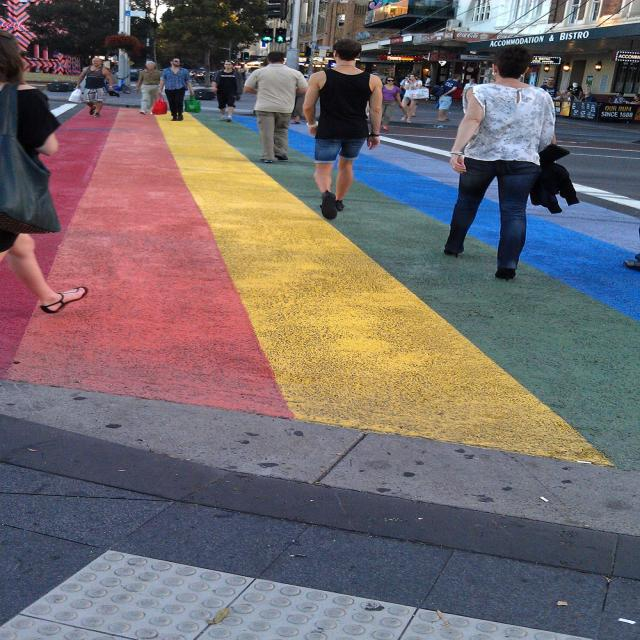body: (438, 41, 585, 280), (0, 23, 89, 320), (298, 36, 386, 220), (240, 49, 306, 164), (65, 55, 115, 118), (188, 67, 432, 79), (157, 56, 196, 122), (208, 60, 246, 123), (134, 61, 164, 116), (430, 72, 460, 122), (400, 73, 429, 124), (381, 75, 405, 131), (291, 68, 311, 124), (399, 74, 424, 118), (620, 232, 640, 271), (397, 72, 418, 109), (539, 77, 566, 100), (485, 78, 502, 110), (460, 78, 480, 97), (565, 82, 583, 100), (581, 91, 599, 103), (613, 92, 627, 104), (625, 93, 639, 105), (565, 91, 580, 101), (422, 75, 432, 88), (554, 88, 564, 100), (444, 75, 451, 82)
